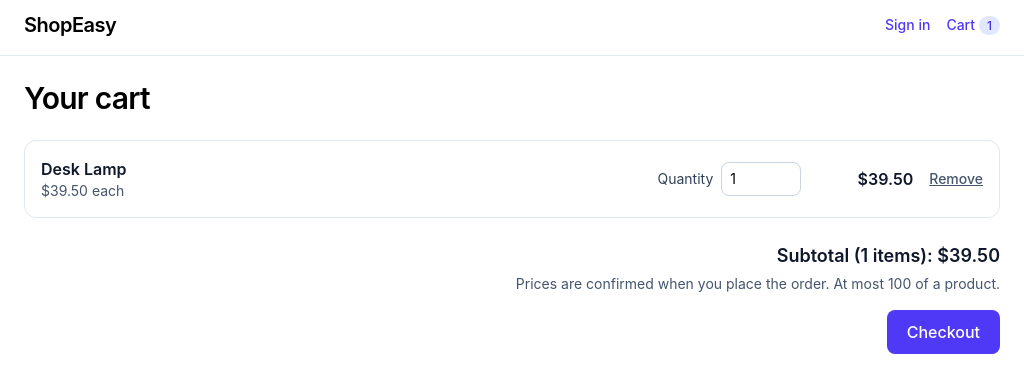
Test: CartPage › shows the most that can be ordered when more is typed
Replace the text in the number field named "Quantity of Desk Lamp" with "150": (761, 179) [721,162,801,196]
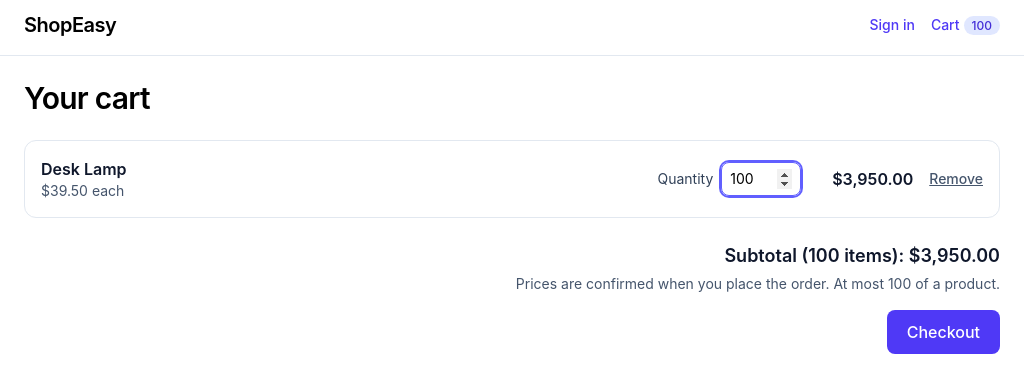
Check: the number field named "Quantity of Desk Lamp" holds "100", box [721,162,801,196]
